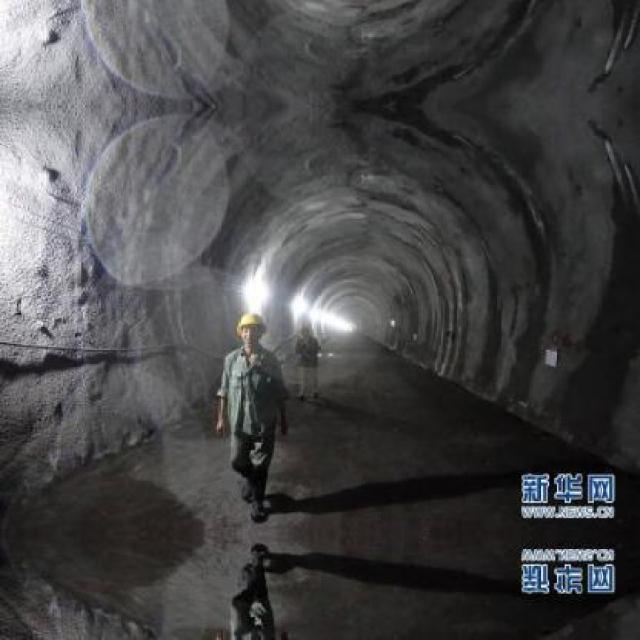helmet: (230, 312, 268, 339)
